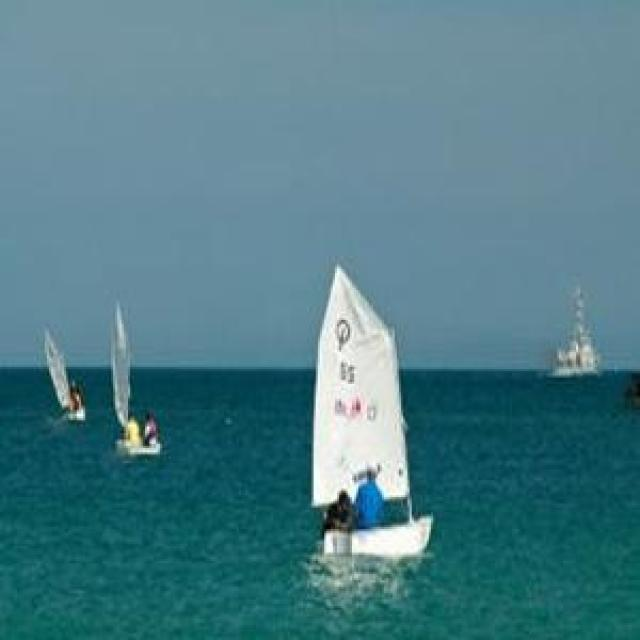navalvessels: (546, 271, 602, 387)
sailboat: (290, 250, 434, 568), (104, 307, 177, 459), (40, 323, 87, 437)
